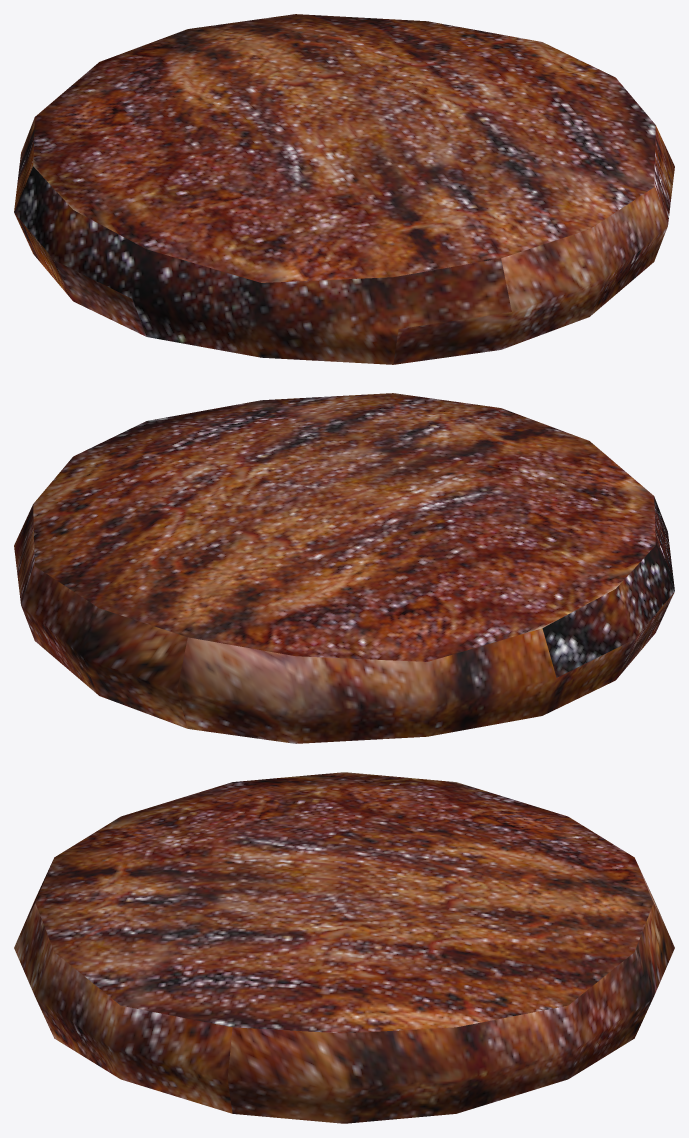
Rendered from Meat.fbx.
3 views of the same model, one above another, from view 1: azimuth 30°, elevation 25°; view 2: azimuth 150°, elevation 25°; view 3: azimuth 270°, elevation 25° (orthographic).
Parts seen in each view (by area): view 1: Roundcube; view 2: Roundcube; view 3: Roundcube.
Part boxes in pixels (<box>): Roundcube: <box>14,14,674,364</box>; Roundcube: <box>14,393,674,743</box>; Roundcube: <box>14,772,674,1123</box>.
Size of the model in its own units: 200 by 200 by 45.54.
1 material, 1 textured.
